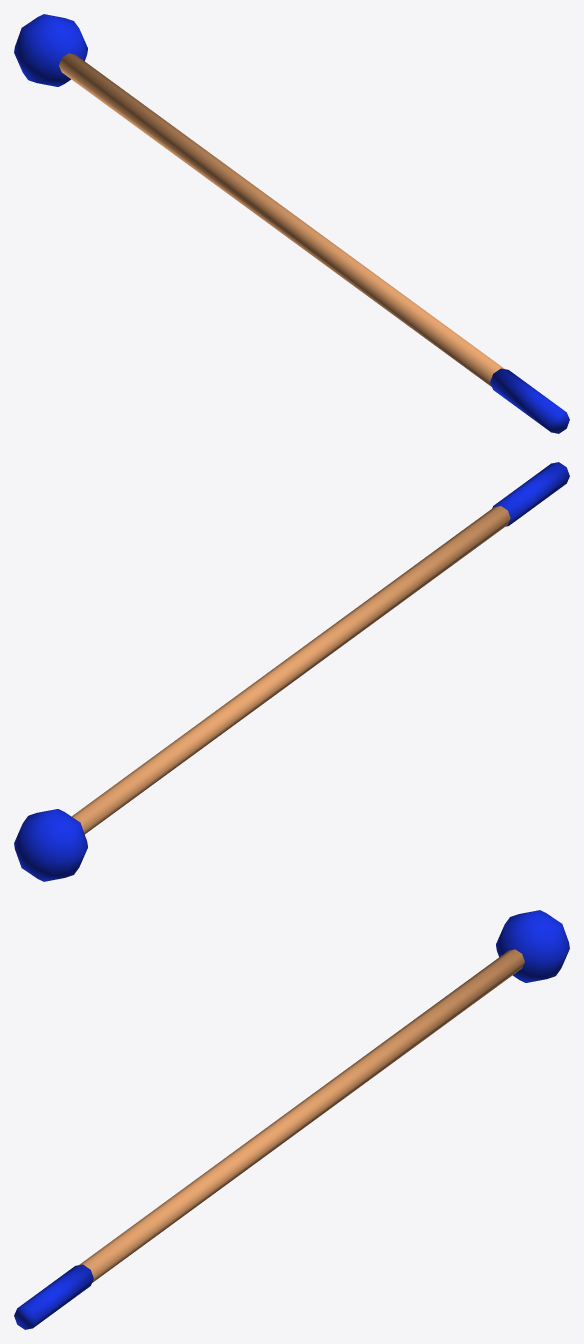
File: Arrow.fbx
3 views of the same model, one above another, from view 1: azimuth 30°, elevation 25°; view 2: azimuth 150°, elevation 25°; view 3: azimuth 330°, elevation 25° (orthographic).
Parts seen in each view (by area): view 1: arrow; view 2: arrow; view 3: arrow.
Boxes of the visible parts, <box> form: arrow: <box>14,14,569,433</box>; arrow: <box>14,462,569,881</box>; arrow: <box>14,910,569,1329</box>.
Bounding box in the file's own units: 0.2 × 0.2 × 2.82.
